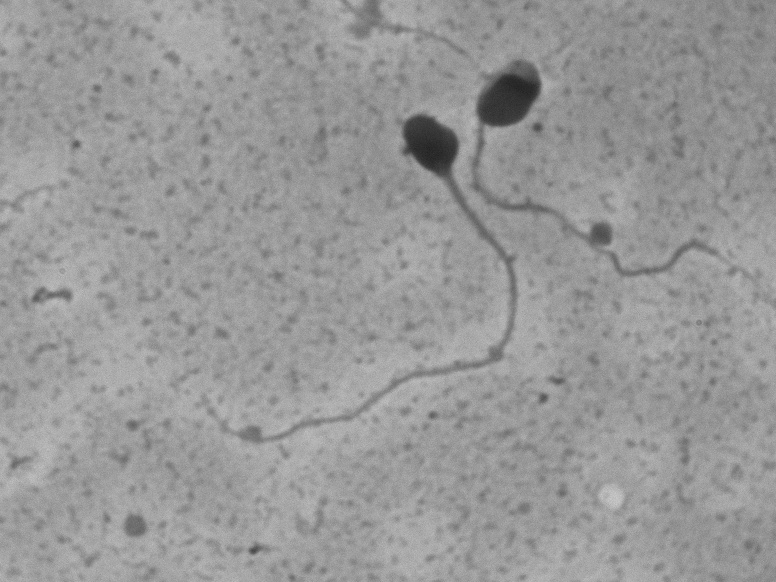Abnormal: (180, 93, 582, 470), (457, 44, 729, 298)
